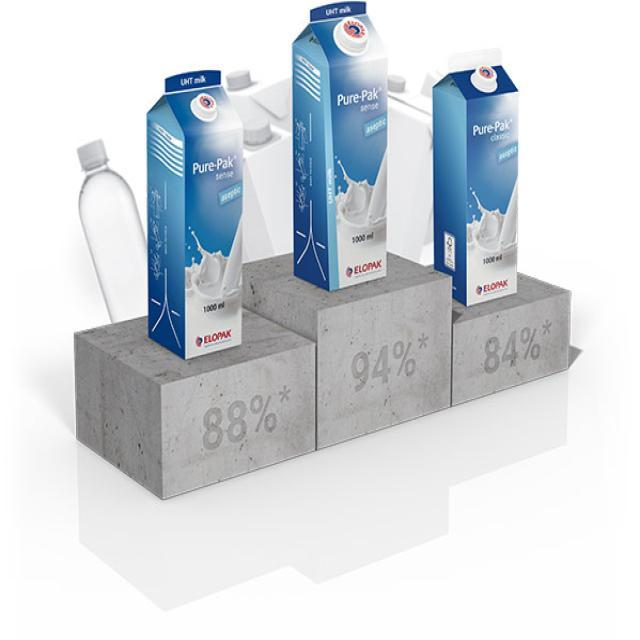Carton: (139, 48, 262, 366), (290, 0, 396, 302), (423, 30, 531, 320)
